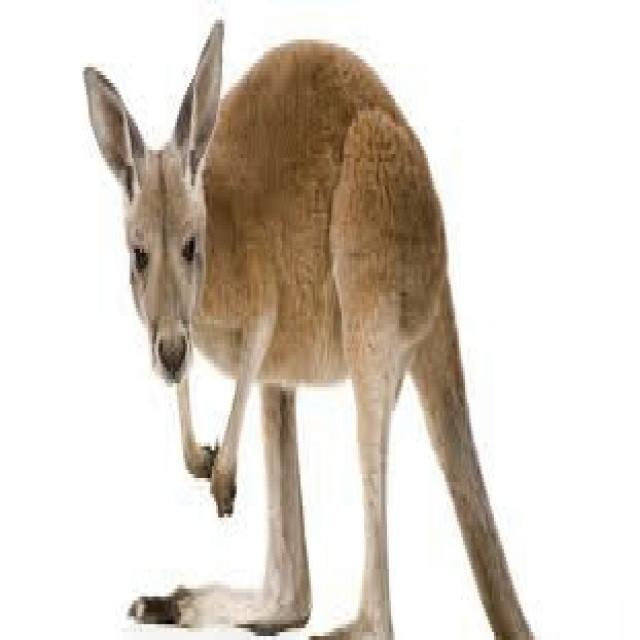kangaroo: (84, 24, 531, 636)
